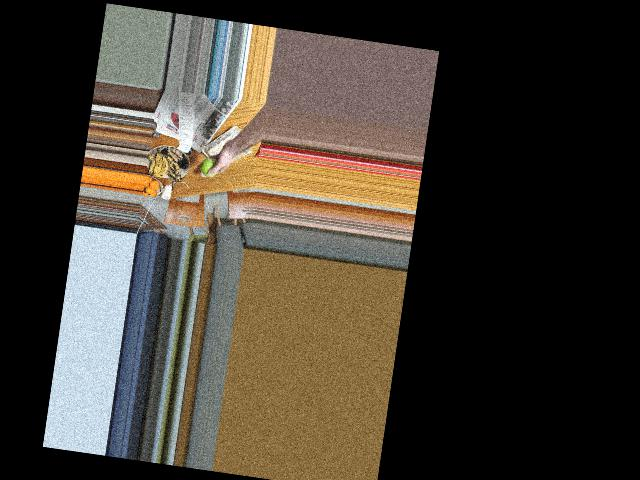apple: (198, 154, 222, 180)
